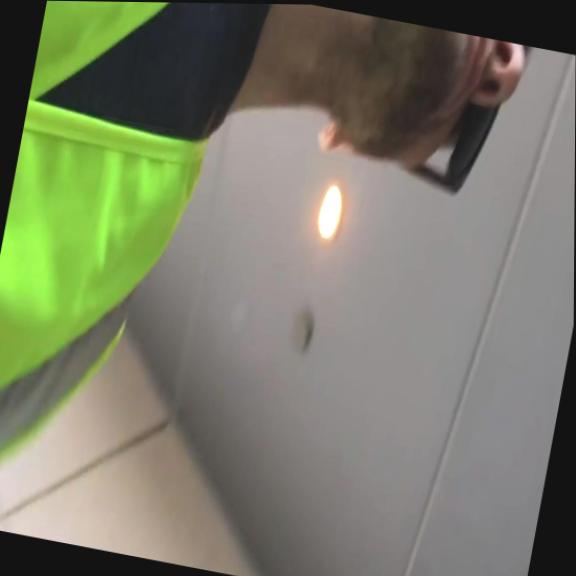safety_vest: (0, 0, 237, 533)
